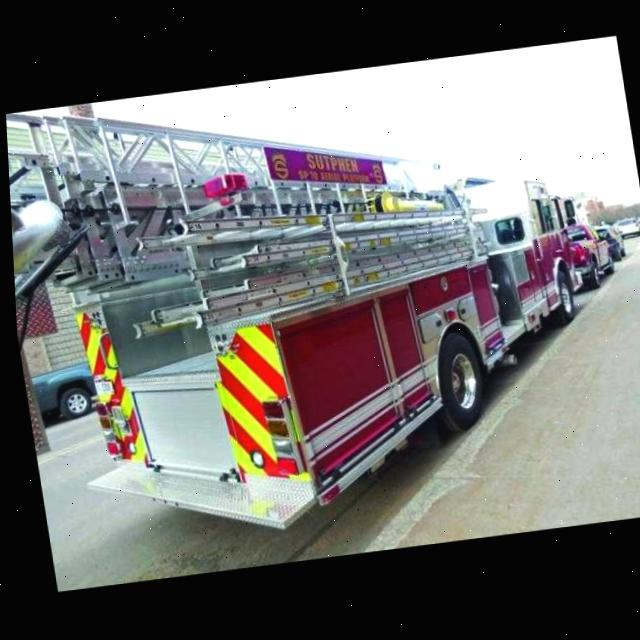emergency: (2, 45, 614, 558)
